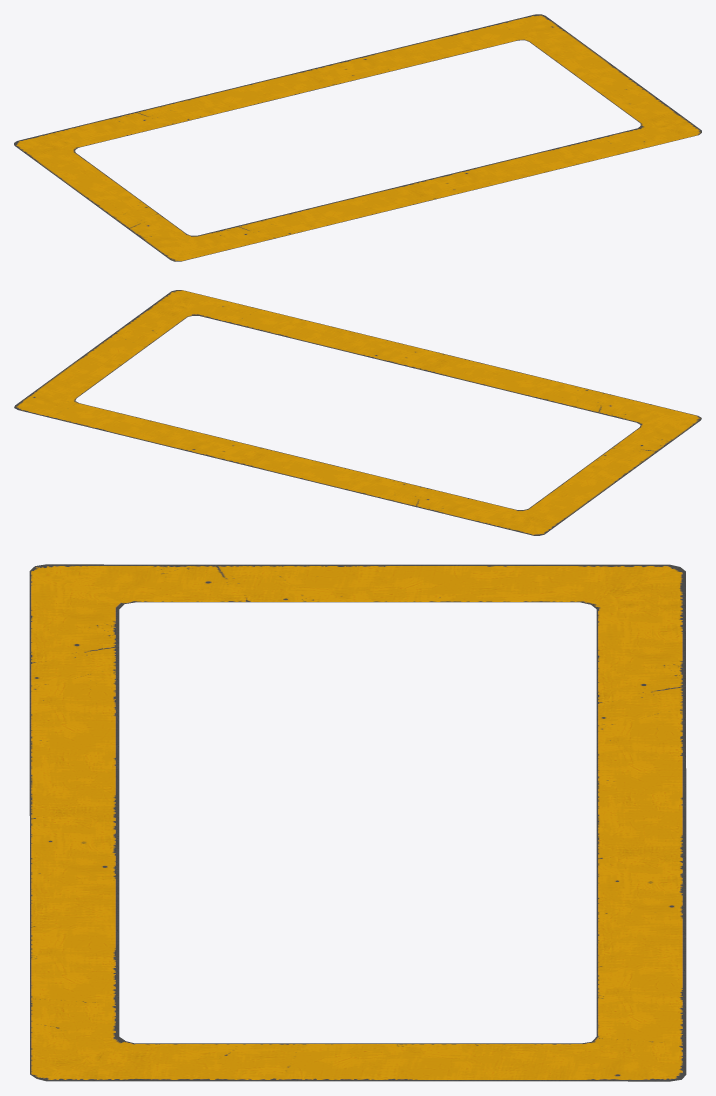
Rendered from SM_FloorDecal_Rec1X2.FBX.
The picture shows the model from 3 angles, top to bottom: view 1: azimuth 30°, elevation 25°; view 2: azimuth 150°, elevation 25°; view 3: azimuth 270°, elevation 25°; orthographic projection. The views are drawn at different scales.
Visible parts, largest first — view 1: SM_FloorDecal_Rec1X2; view 2: SM_FloorDecal_Rec1X2; view 3: SM_FloorDecal_Rec1X2.
Boxes of the visible parts, x1=… form: SM_FloorDecal_Rec1X2: x1=14, y1=14, x2=701, y2=261; SM_FloorDecal_Rec1X2: x1=14, y1=290, x2=701, y2=535; SM_FloorDecal_Rec1X2: x1=29, y1=564, x2=686, y2=1081.
Size of the model in its own units: 216 by 116 by 0.
